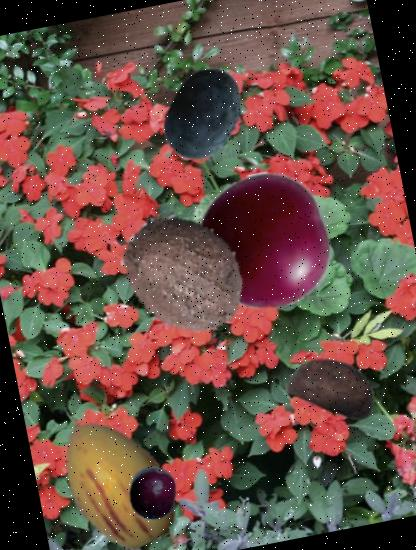Blueberry: (148, 57, 262, 171)
Cherry: (185, 161, 343, 319)
Chestnut: (280, 332, 388, 440)
Cocos: (104, 194, 263, 353)
Pepino: (34, 400, 196, 550)
Plum: (121, 461, 184, 524)
